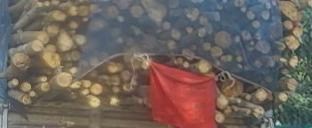large: (279, 0, 300, 21), (221, 77, 242, 95)
medium: (11, 53, 29, 69), (148, 3, 165, 19), (55, 36, 71, 52), (88, 18, 105, 32), (55, 72, 70, 87), (214, 32, 229, 47), (43, 53, 59, 67), (196, 60, 210, 74), (256, 41, 270, 55), (45, 24, 59, 37), (130, 5, 143, 18), (285, 37, 299, 49), (107, 62, 122, 72), (215, 96, 227, 108), (38, 33, 49, 45), (251, 107, 263, 118), (286, 79, 297, 91), (210, 46, 221, 58), (170, 28, 181, 40), (106, 6, 117, 18), (77, 6, 89, 17), (186, 9, 198, 20), (51, 12, 65, 21), (30, 40, 41, 51), (90, 84, 101, 95), (255, 89, 266, 100), (89, 98, 100, 109), (120, 71, 131, 82), (293, 27, 303, 37), (75, 35, 85, 45), (260, 11, 269, 21), (68, 6, 77, 16), (240, 30, 249, 40), (283, 20, 292, 29), (162, 22, 171, 31), (71, 51, 79, 60), (278, 93, 286, 101), (234, 0, 243, 6)
small: (216, 114, 225, 123), (22, 97, 31, 105), (109, 97, 117, 106), (41, 83, 49, 91), (252, 20, 260, 28), (199, 18, 207, 26), (23, 84, 30, 92), (246, 12, 254, 19), (81, 89, 88, 96), (29, 91, 36, 98), (40, 76, 47, 83), (196, 29, 203, 36), (181, 62, 187, 68), (82, 80, 88, 86), (11, 80, 17, 86), (233, 37, 239, 43), (202, 43, 208, 49), (112, 86, 118, 92), (184, 28, 190, 34), (70, 22, 76, 28), (51, 0, 58, 4), (71, 68, 76, 73), (226, 55, 231, 60), (236, 56, 240, 62), (255, 34, 259, 40), (265, 4, 270, 8), (44, 1, 48, 6), (82, 18, 87, 22), (116, 39, 121, 43), (216, 5, 220, 10), (117, 17, 121, 21), (37, 3, 41, 7), (70, 30, 74, 34), (189, 45, 193, 49), (248, 40, 251, 45), (241, 8, 245, 11)
